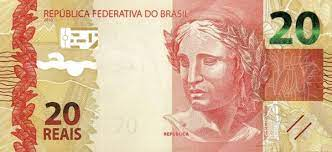nota20: (1, 1, 331, 151)
